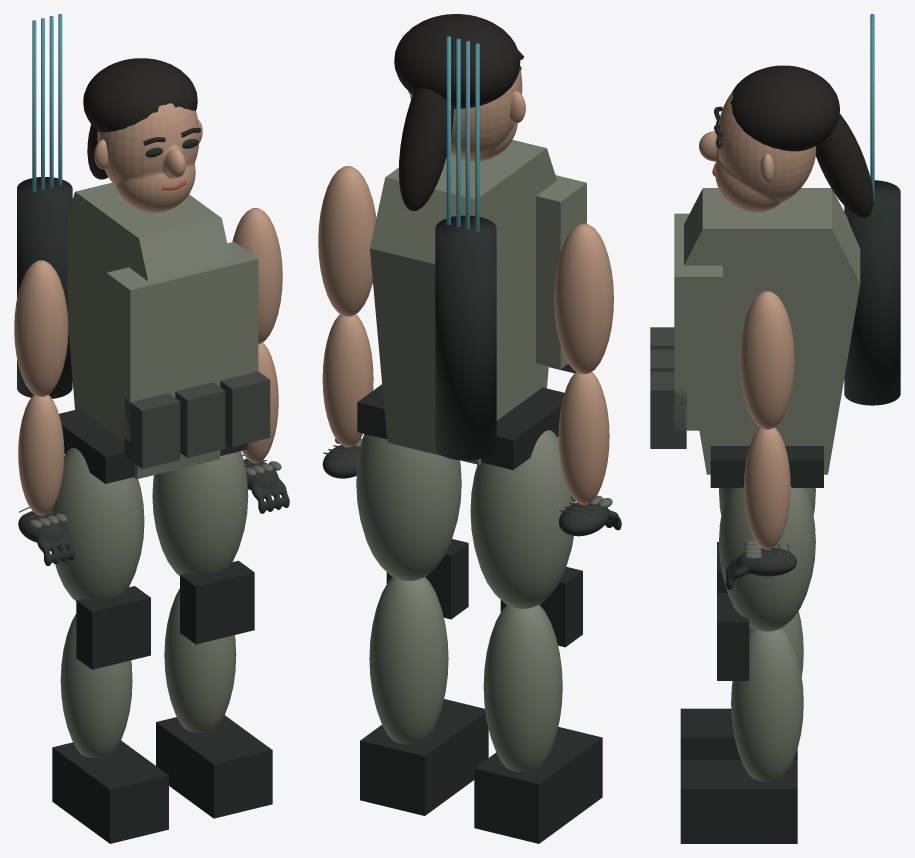
The model's file is luna.glb.
3 renders of one model, left to right at view 1: azimuth 30°, elevation 25°; view 2: azimuth 150°, elevation 25°; view 3: azimuth 270°, elevation 25°, orthographic. The views are drawn at different scales.
Parts seen in each view (by area): view 1: PlateCarrier, TorsoArmor, Thigh, Thigh.001, Boot, Boot.001, Face, Shin, Shin.001, HairCap, UpperArm, Quiver (+16 smaller); view 2: TorsoArmor, Quiver, Thigh, Thigh.001, Shin.001, Shin, Boot, Boot.001, HairCap, UpperArm, UpperArm.001, PlateCarrier (+13 smaller); view 3: TorsoArmor, Quiver, Boot.001, Shin.001, PlateCarrier, Thigh.001, HairCap, Face, UpperArm.001, Forearm.001, Ponytail, Belt (+8 smaller).
Boxes of the visible parts, bbox=[...] form: PlateCarrier: bbox=[106, 241, 258, 441]; TorsoArmor: bbox=[67, 182, 230, 479]; Thigh: bbox=[49, 448, 144, 601]; Thigh.001: bbox=[152, 451, 248, 575]; Boot: bbox=[52, 740, 168, 843]; Boot.001: bbox=[156, 715, 272, 818]; Face: bbox=[97, 103, 199, 212]; Shin: bbox=[60, 614, 132, 758]; Shin.001: bbox=[164, 588, 236, 732]; HairCap: bbox=[83, 58, 197, 132]; UpperArm: bbox=[14, 260, 68, 396]; Quiver: bbox=[17, 177, 72, 398]; TorsoArmor: bbox=[370, 140, 556, 464]; Quiver: bbox=[435, 215, 496, 460]; Thigh: bbox=[470, 430, 575, 608]; Thigh.001: bbox=[356, 434, 461, 581]; Shin.001: bbox=[369, 577, 448, 744]; Shin: bbox=[483, 605, 562, 771]; Boot: bbox=[474, 727, 602, 843]; Boot.001: bbox=[360, 699, 488, 815]; HairCap: bbox=[394, 14, 520, 108]; UpperArm: bbox=[554, 223, 613, 374]; UpperArm.001: bbox=[318, 166, 376, 316]; PlateCarrier: bbox=[536, 175, 586, 369]; TorsoArmor: bbox=[684, 188, 860, 474]; Quiver: bbox=[844, 180, 900, 405]; Boot.001: bbox=[680, 760, 797, 843]; Shin.001: bbox=[731, 628, 803, 781]; PlateCarrier: bbox=[674, 213, 722, 430]; Thigh.001: bbox=[719, 487, 815, 631]; HairCap: bbox=[730, 65, 839, 151]; Face: bbox=[699, 92, 815, 212]; UpperArm.001: bbox=[740, 291, 794, 429]; Forearm.001: bbox=[744, 427, 790, 549]; Ponytail: bbox=[816, 113, 873, 217]; Belt: bbox=[710, 446, 823, 487].
Size of the model in its own units: 0.756 by 2.07 by 0.62.
